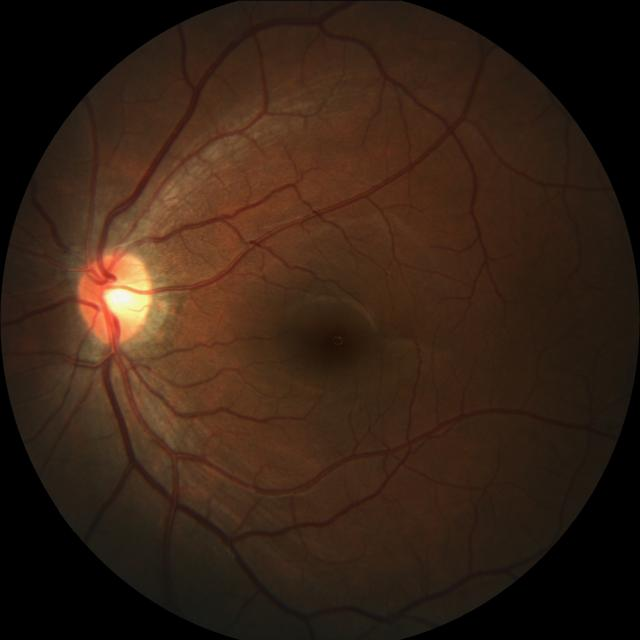OC: (96, 274, 145, 322)
OD: (79, 249, 157, 342)
